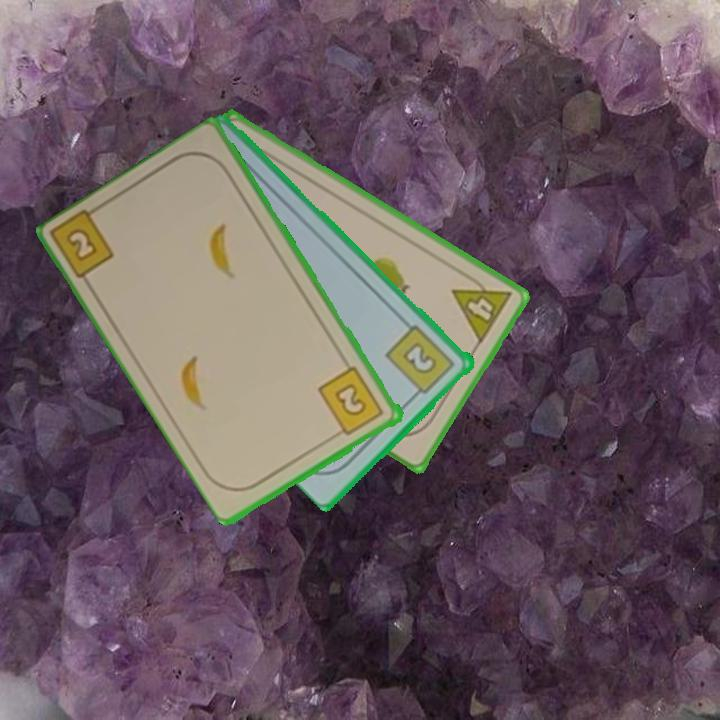2b: (382, 321, 458, 402), (315, 363, 387, 439), (62, 224, 101, 265)
4p: (448, 268, 515, 347)
